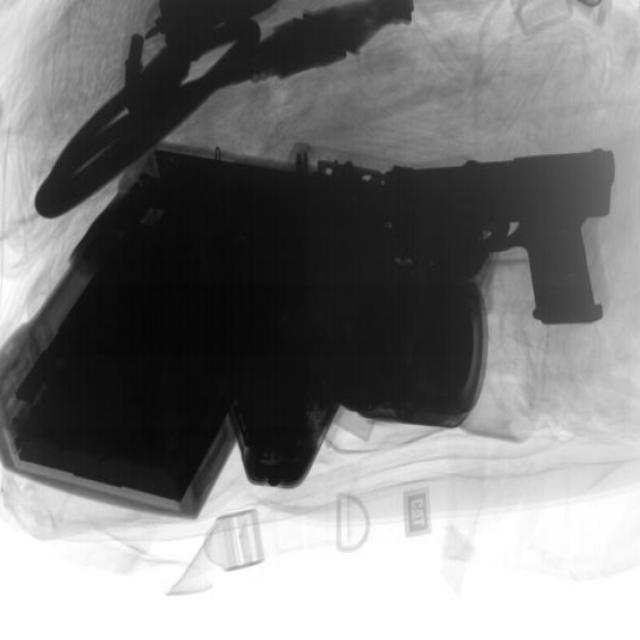GUN: (391, 139, 621, 335)
